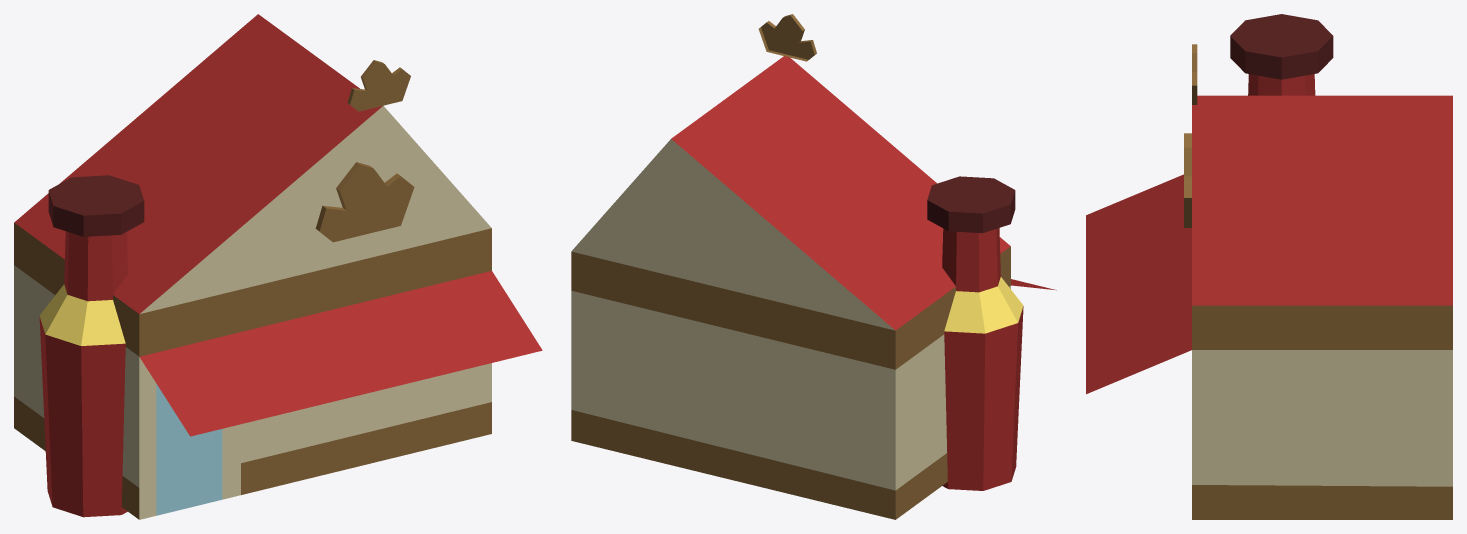
Rendered from xBakery.fbx.
3 renders of one model, left to right at view 1: azimuth 30°, elevation 25°; view 2: azimuth 150°, elevation 25°; view 3: azimuth 270°, elevation 25°, orthographic. The views are drawn at different scales.
Parts seen in each view (by area): view 1: Cube.007, Cylinder.002, Cube.004, Cube.005; view 2: Cube.007, Cylinder.002, Cube.005; view 3: Cube.007, Cylinder.002, Cube.004.
Boxes of the visible parts, x1,y1,x2,y2 form: Cube.007: (14, 14, 542, 519); Cylinder.002: (39, 175, 144, 517); Cube.004: (315, 162, 414, 242); Cube.005: (347, 60, 410, 111); Cube.007: (571, 56, 1056, 519); Cylinder.002: (927, 176, 1023, 490); Cube.005: (758, 14, 816, 61); Cube.007: (1086, 95, 1452, 519); Cylinder.002: (1230, 14, 1333, 95); Cube.004: (1184, 133, 1191, 227).
Size of the model in its own units: 5952 by 5759 by 4500.
